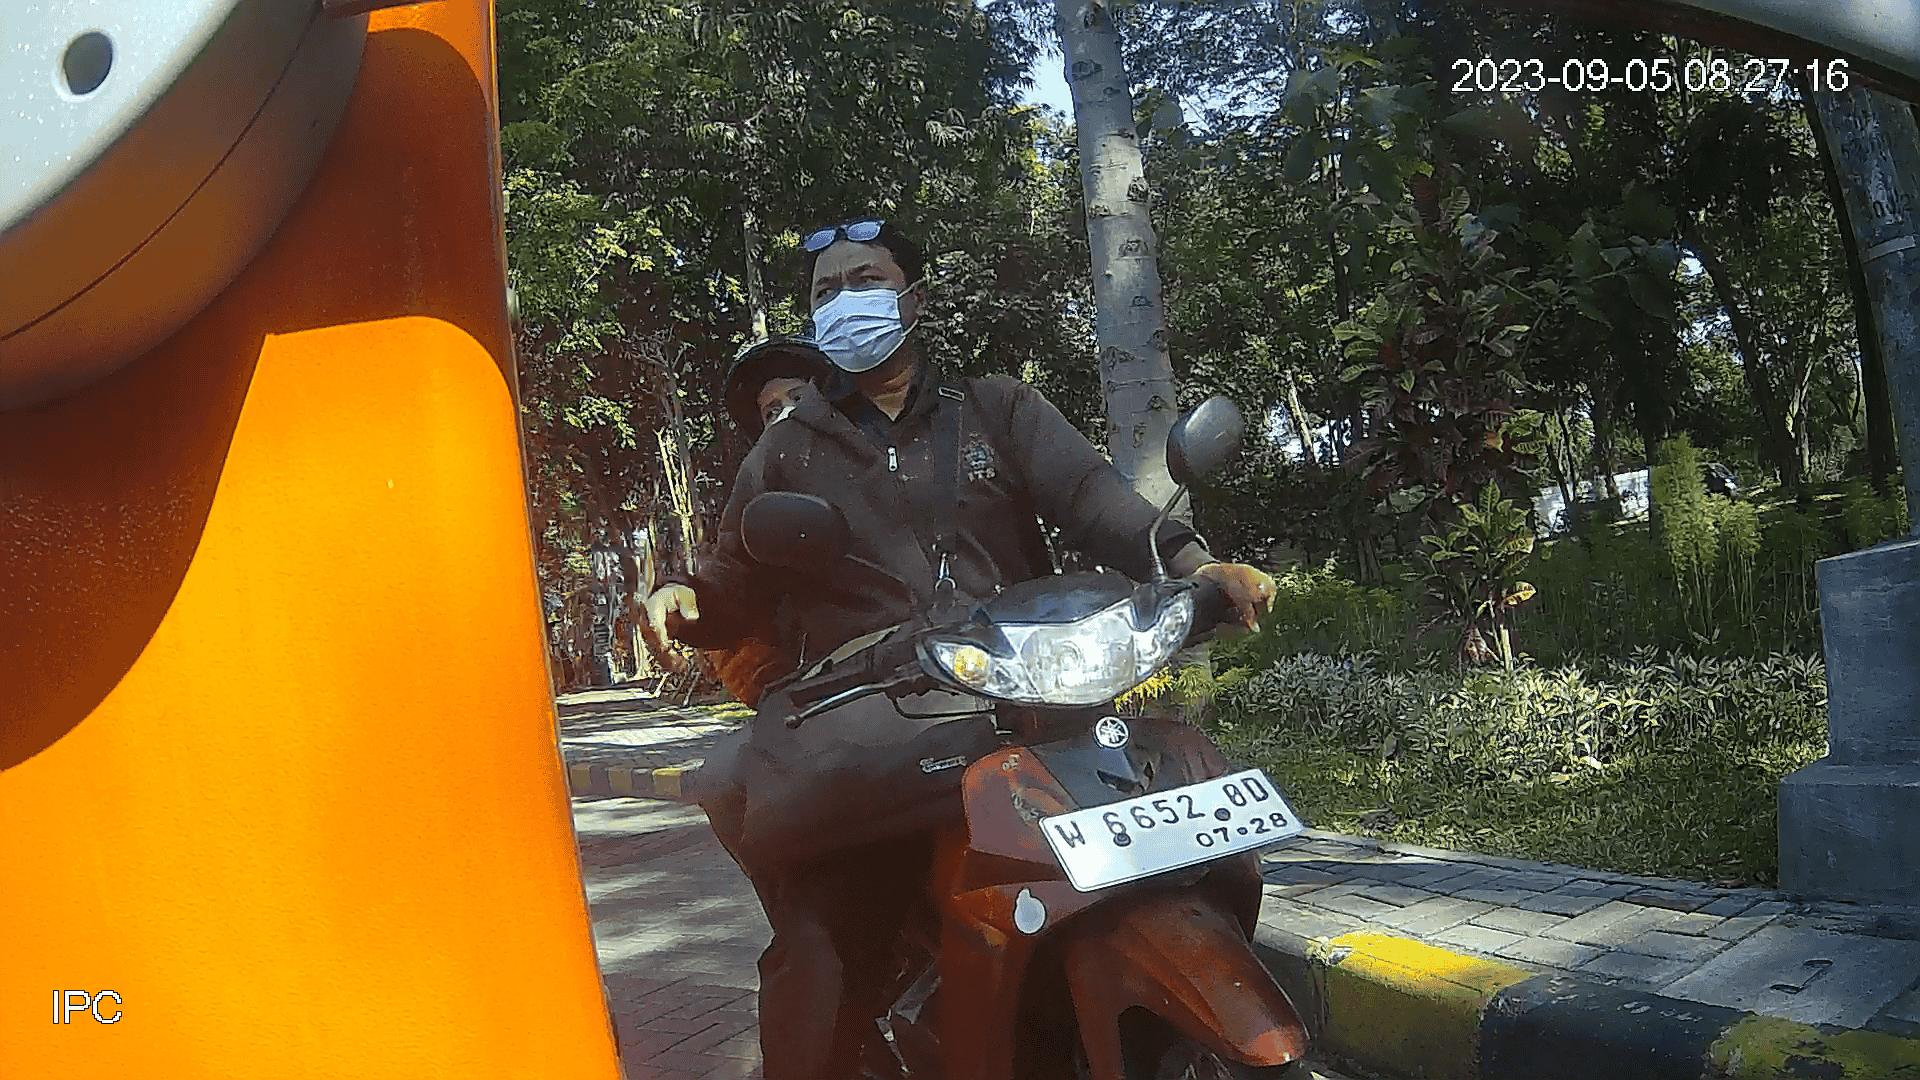plat: (1036, 769, 1309, 894)
